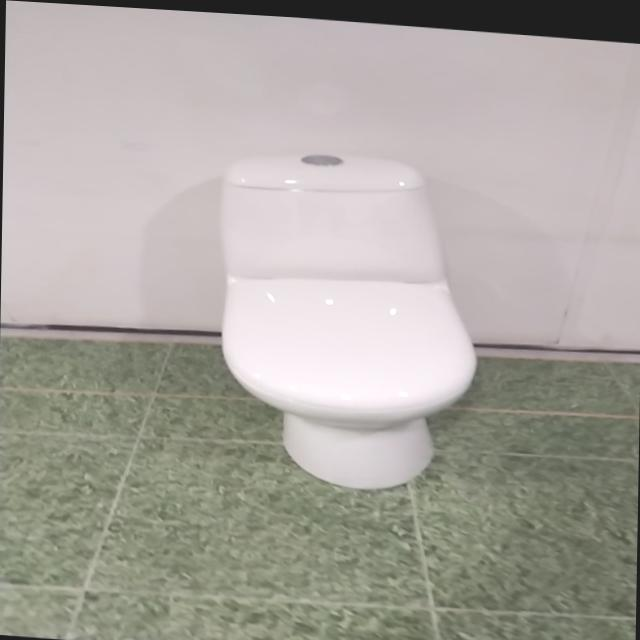toilet: (215, 140, 482, 492)
